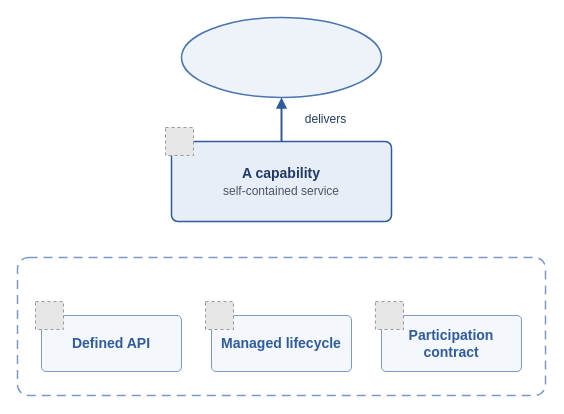
Image size: 564x414. Some labels were removed from this diagram. Grey dashed boxes stand in for pictures. Here are the shapes that lost their labels. From the top down, the box of each, then its label:
(180, 16, 382, 98): A user outcome provided by the platform
(16, 256, 546, 396): Defined by
